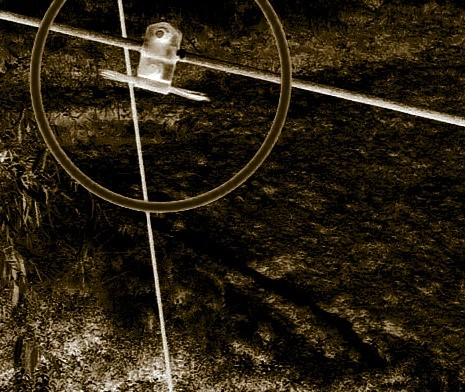Damage of shockproof hammer: (90, 18, 220, 105)
